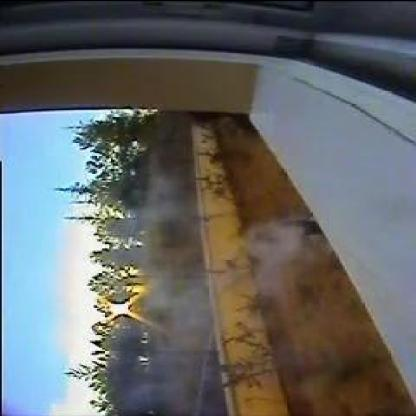-: (249, 221, 297, 290)
